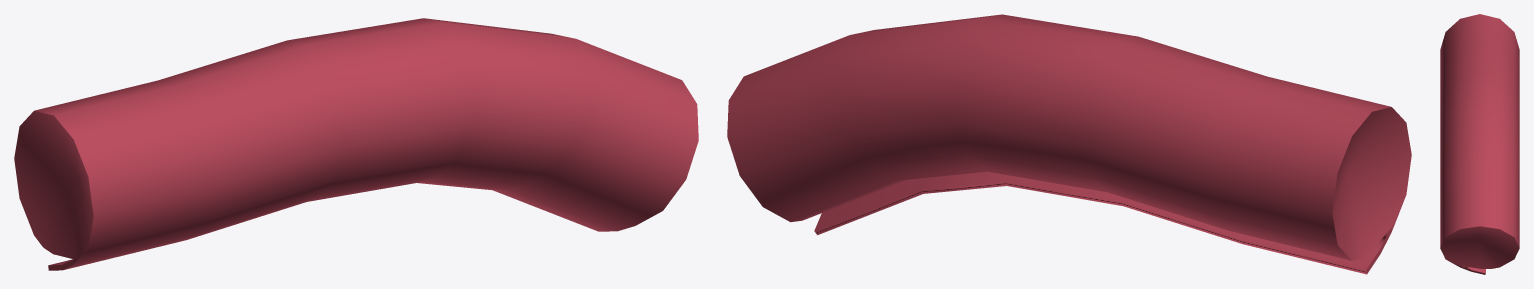
The model's file is carpet_01.fbx.
The picture shows the model from 3 angles, left to right: view 1: azimuth 30°, elevation 25°; view 2: azimuth 150°, elevation 25°; view 3: azimuth 270°, elevation 25°; orthographic projection. The views are drawn at different scales.
Parts seen in each view (by area): view 1: pCylinder35; view 2: pCylinder35; view 3: pCylinder35.
Boxes of the visible parts, bbox=[...] form: pCylinder35: bbox=[14, 18, 698, 270]; pCylinder35: bbox=[727, 14, 1411, 274]; pCylinder35: bbox=[1440, 14, 1519, 274].
Size of the model in its own units: 2.03 by 0.8092 by 0.4445.
